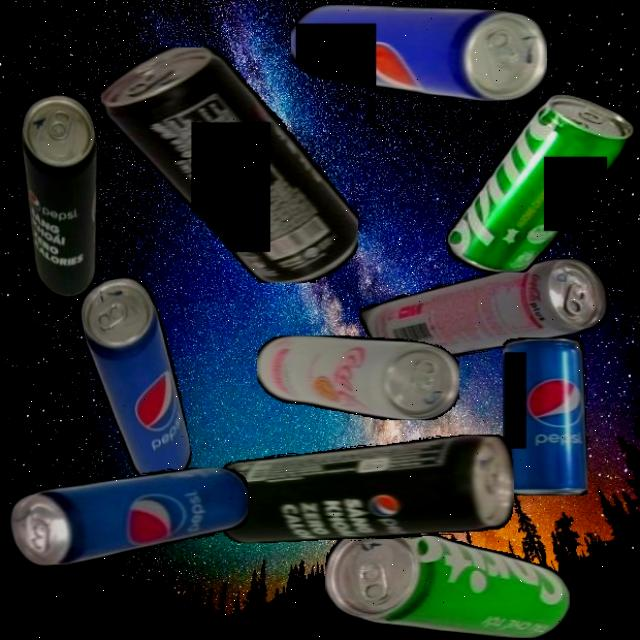debris: (100, 47, 358, 283), (446, 93, 636, 272), (214, 434, 514, 543), (325, 526, 570, 638), (75, 272, 195, 492), (358, 257, 608, 361), (290, 5, 547, 101), (7, 90, 123, 301), (10, 466, 248, 566), (256, 336, 459, 420), (502, 338, 587, 496)
